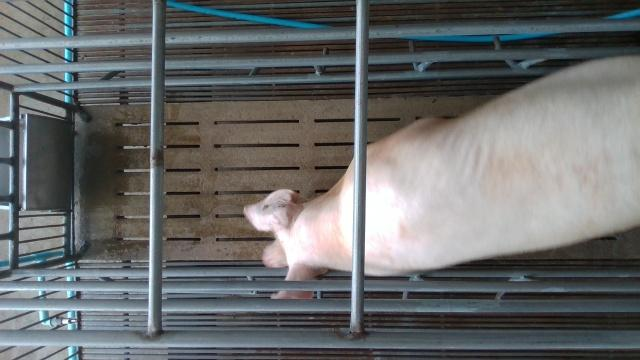sow-stand: (245, 58, 640, 300)
